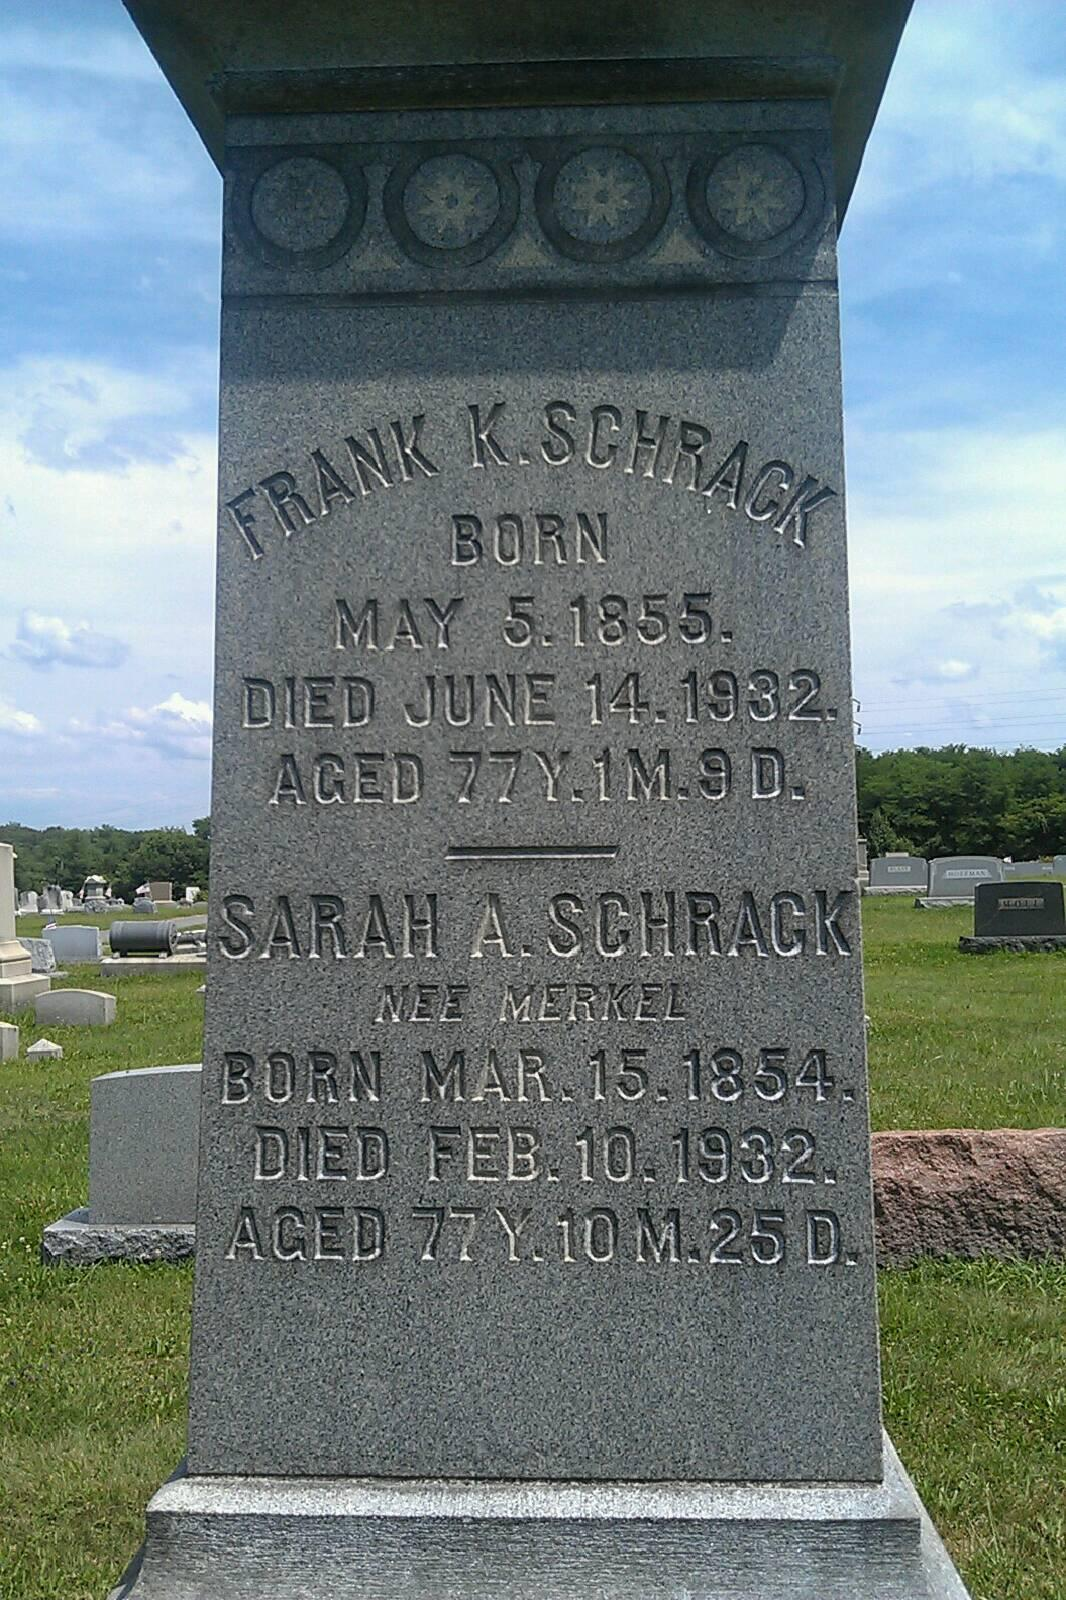upright: (130, 118, 968, 1594)
